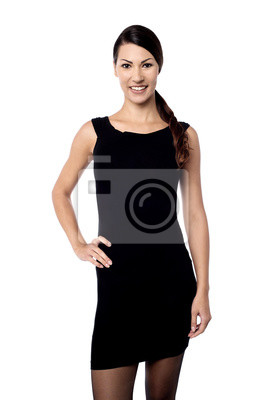person: (90, 31, 193, 190)
